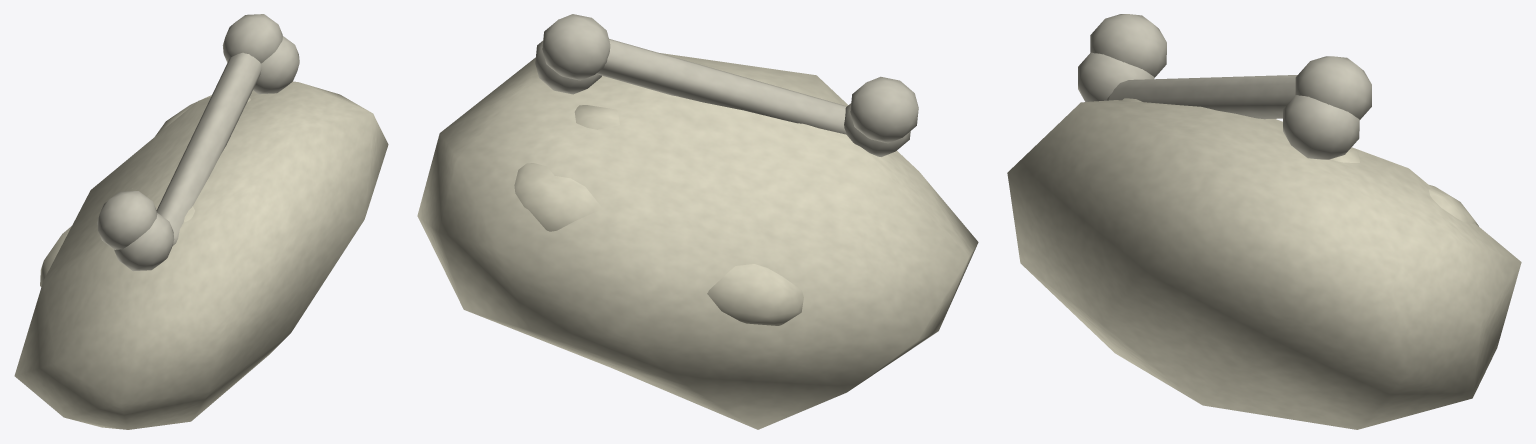
3 views of the same model, side by side, from view 1: azimuth 30°, elevation 25°; view 2: azimuth 150°, elevation 25°; view 3: azimuth 270°, elevation 25° (orthographic). The views are drawn at different scales.
Parts seen in each view (by area): view 1: Coagulated material mass; view 2: Coagulated material mass; view 3: Coagulated material mass.
Part boxes in pixels (x1,y1,x2,y2): Coagulated material mass: (14,14,388,429); Coagulated material mass: (417,14,978,429); Coagulated material mass: (1007,14,1521,429).
Bounding box in the file's own units: 1.03 × 0.8393 × 0.8998.
Materials: 1 (1 with a texture image).
